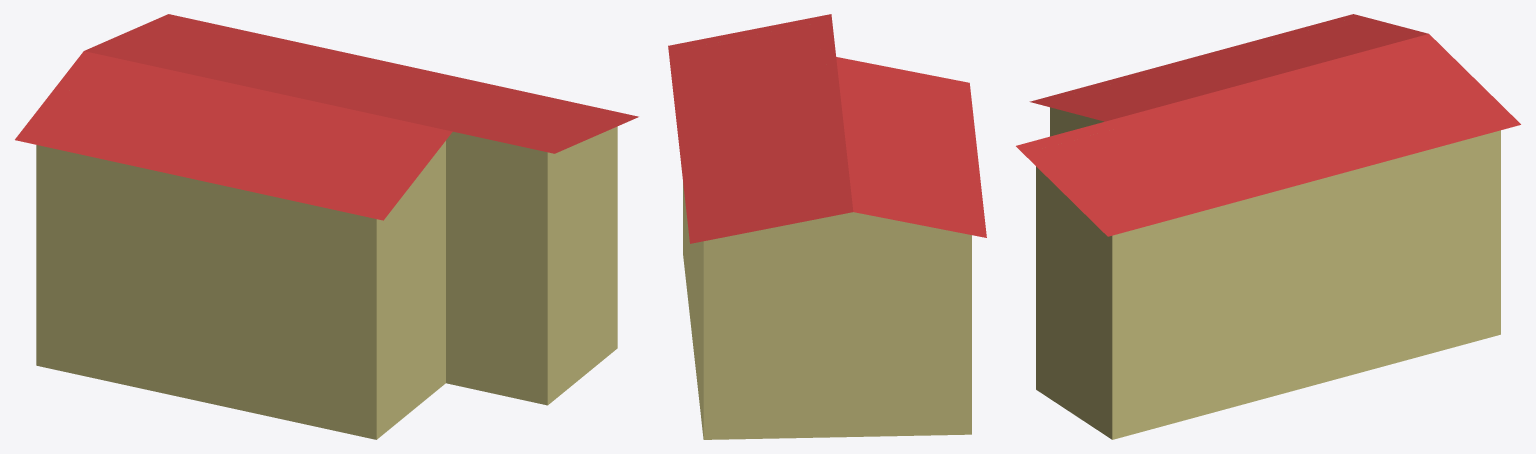
The picture shows the model from 3 angles, left to right: view 1: azimuth 30°, elevation 25°; view 2: azimuth 150°, elevation 25°; view 3: azimuth 270°, elevation 25°; orthographic projection. The views are drawn at different scales.
Size of the model in its own units: 17.65 by 16.94 by 8.93.
